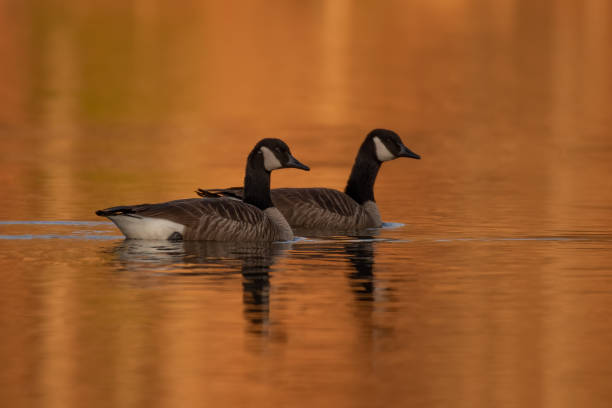goose: (197, 126, 423, 235), (92, 137, 311, 243)
